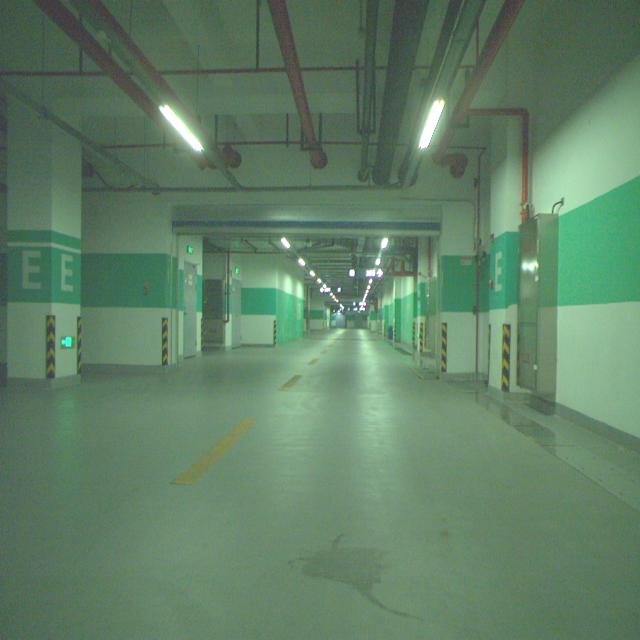pillar: (8, 102, 81, 384)
wall: (489, 109, 531, 392)
